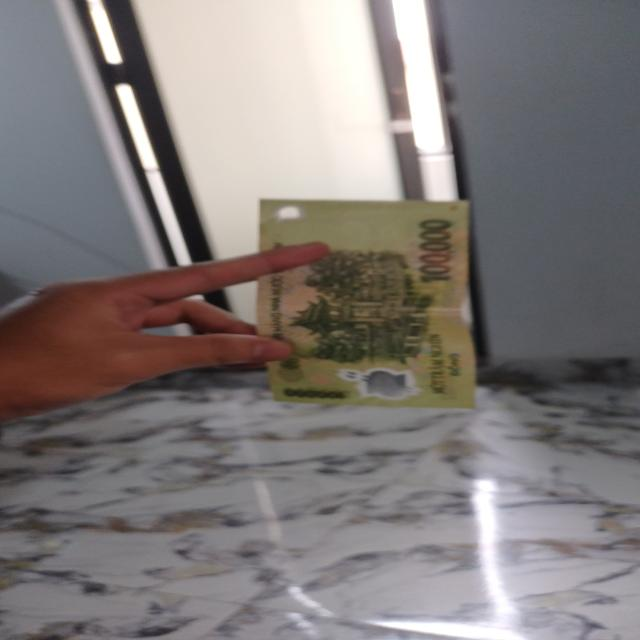100 000 VND: (254, 190, 494, 414)
